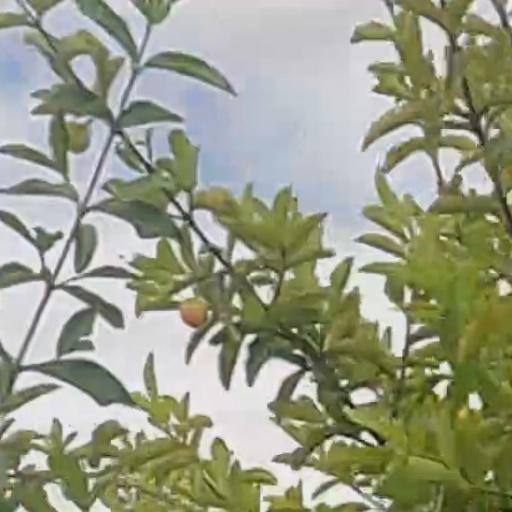acerola: (182, 300, 208, 327), (66, 123, 89, 150)
